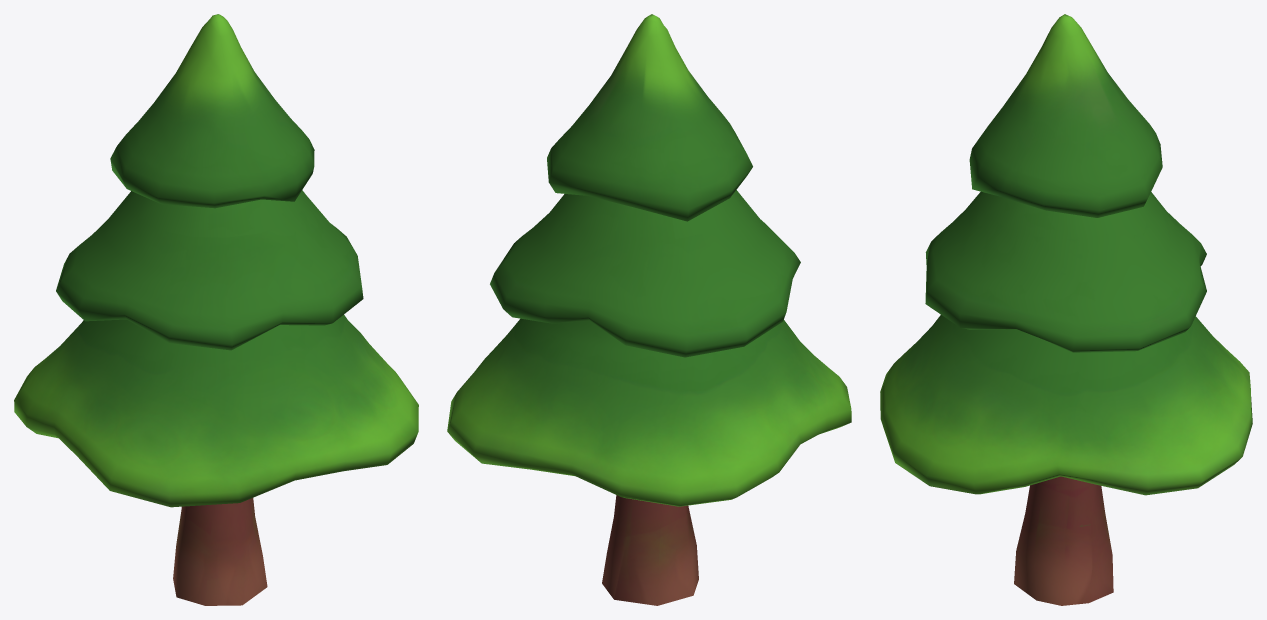
File: ArbolPino1.fbx
3 views of the same model, side by side, from view 1: azimuth 30°, elevation 25°; view 2: azimuth 150°, elevation 25°; view 3: azimuth 270°, elevation 25° (orthographic).
Visible parts, largest first — view 1: Retopo_model.002; view 2: Retopo_model.002; view 3: Retopo_model.002.
Part boxes in pixels (box(x1,y1,x2,y2)): Retopo_model.002: box(14, 14, 418, 605); Retopo_model.002: box(447, 14, 851, 605); Retopo_model.002: box(880, 14, 1252, 605).
Size of the model in its own units: 108 by 185 by 109.
1 material, 1 textured.
